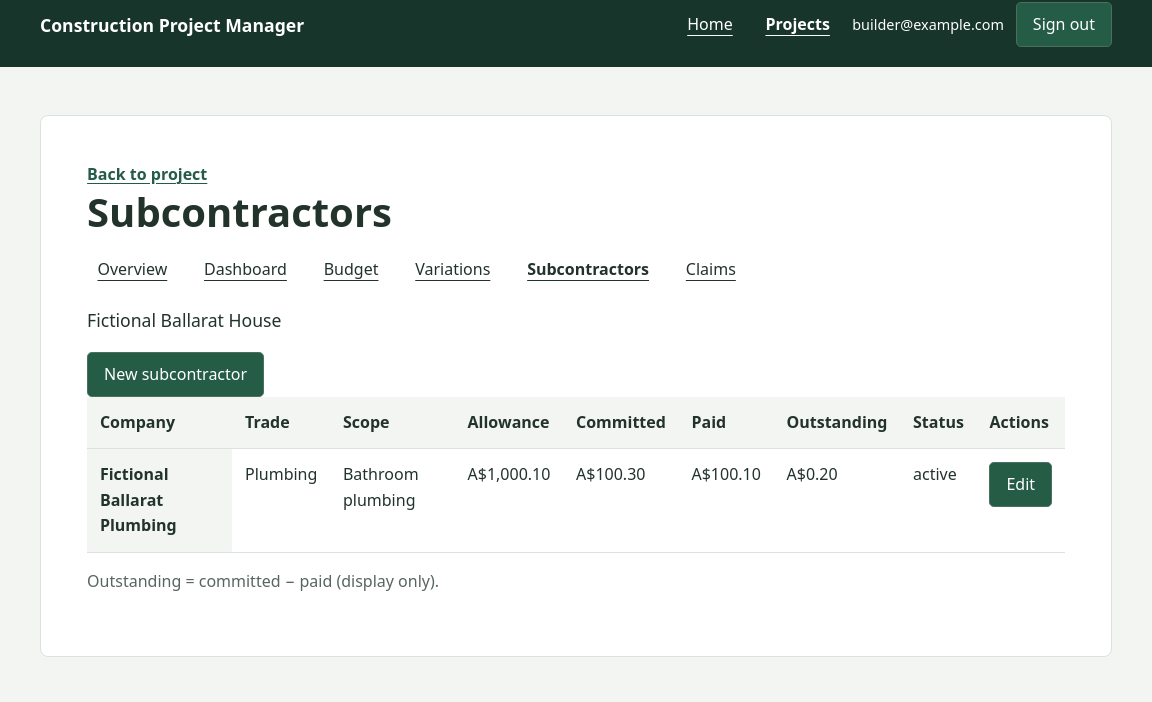
it: PATCH sends only changed paid and refreshes authoritative data
Click the button with aria-label "Edit Fictional Ballarat Plumbing": coordinates (1021, 485) [990, 462, 1052, 507]
(page scrolled)
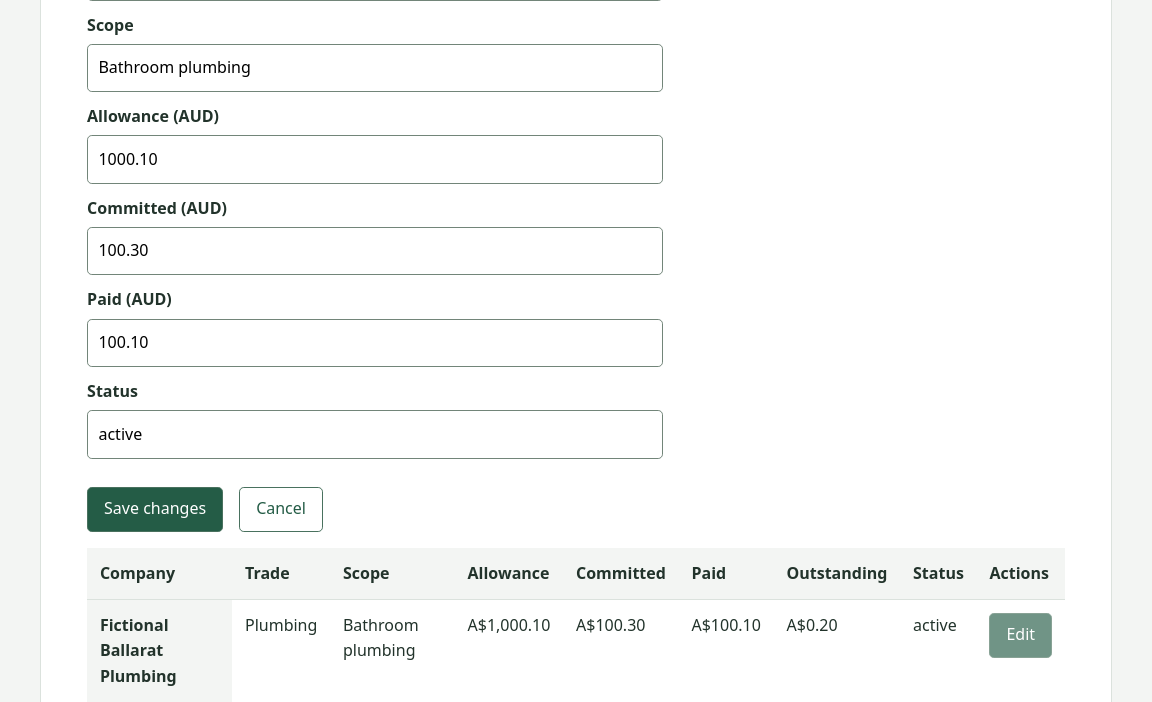
Replace the text in the field labelled "Paid (AUD)" with "0.20": coordinates (375, 343) [87, 319, 663, 367]
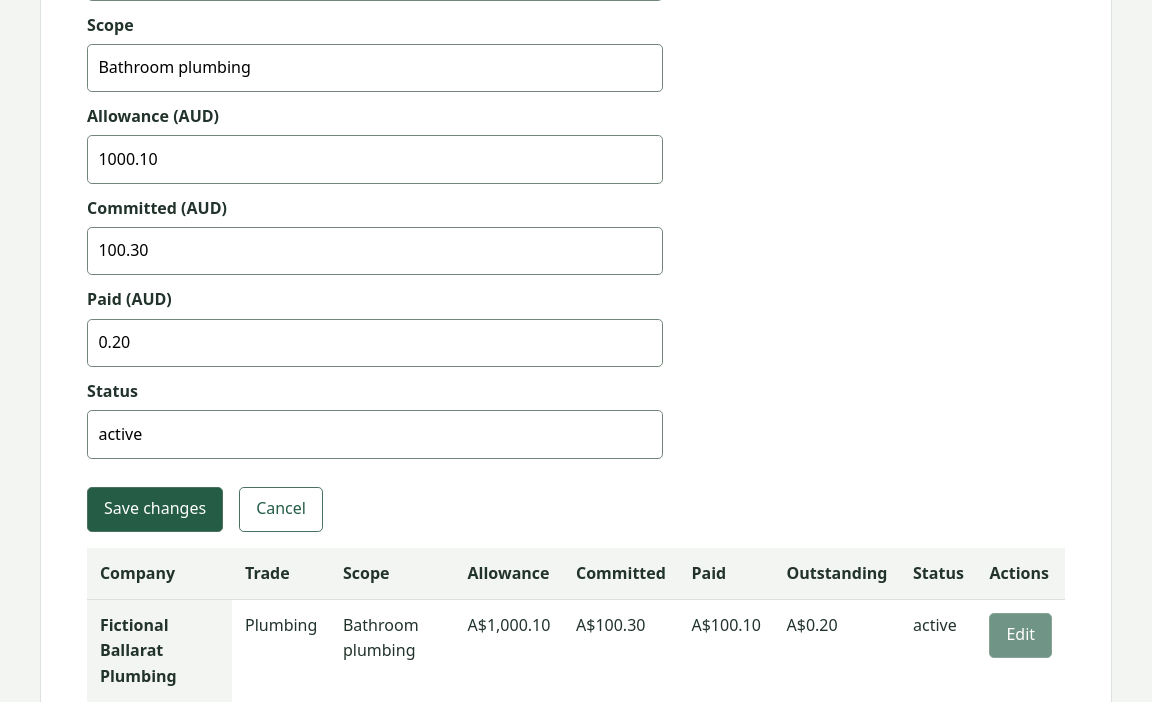
Click the button "Save changes": coordinates (155, 509) [87, 486, 223, 532]
(page scrolled)
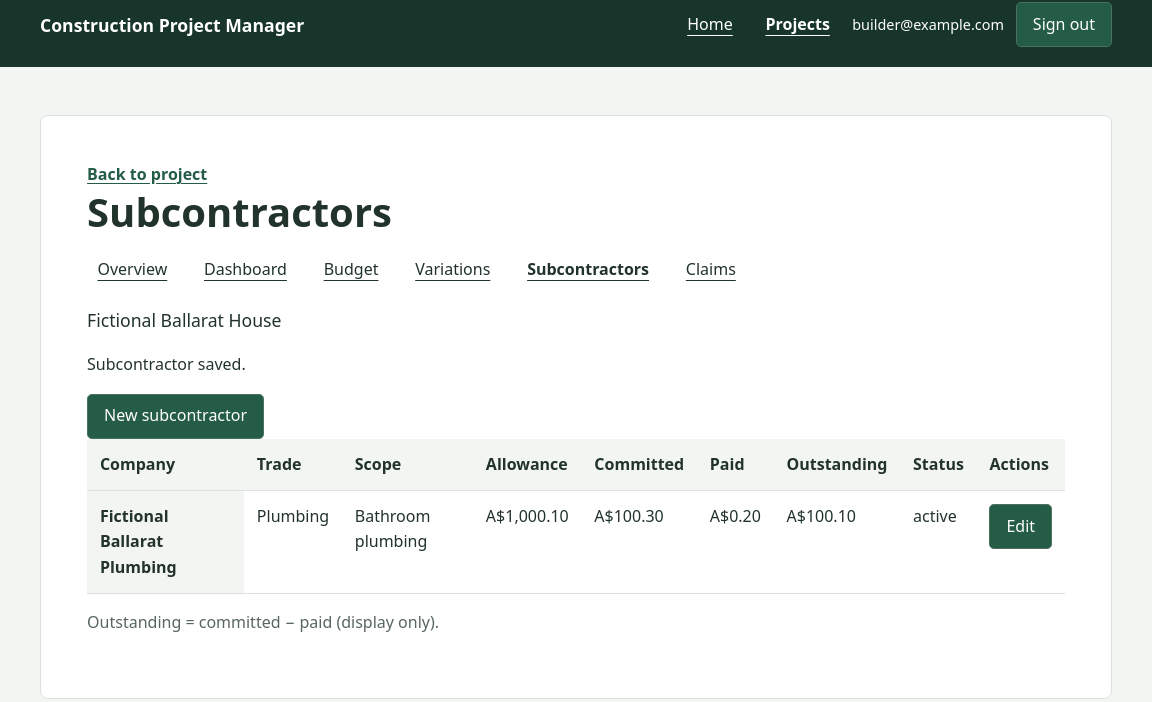
Expected: the text "A$100.10" is shown, [697, 491, 774, 594]
Now the text "Subcontractor saved." is shown, box [87, 353, 246, 375]
